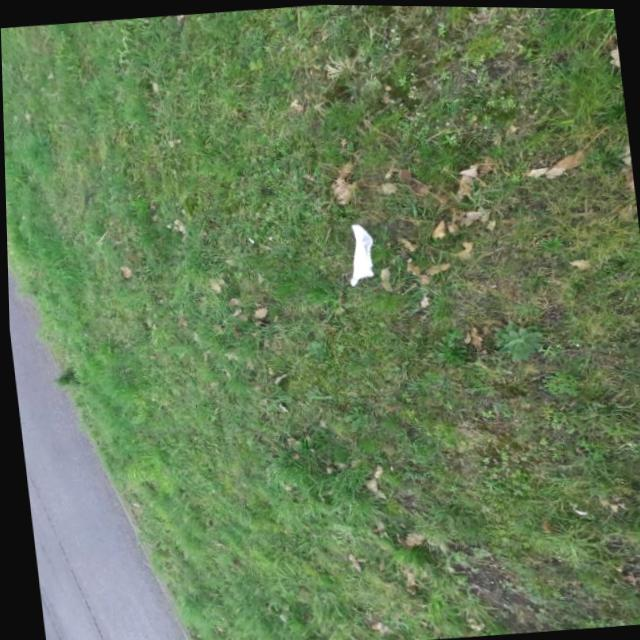Paper: (340, 220, 378, 285)
